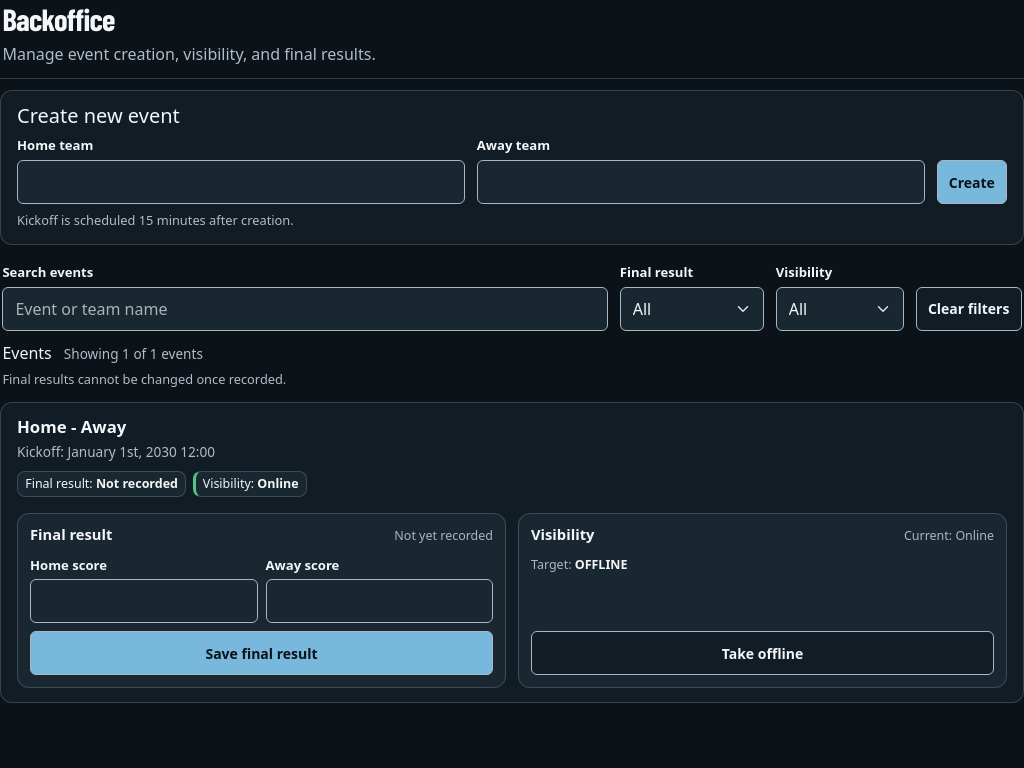
Test case: public Backoffice access › creates an event with trimmed team names
Expected: the heading "Home - Away" is shown, [17,415,126,438]
Type "  Team A " into the field labelled "Home team" at (241, 182), box [17,160,465,204]
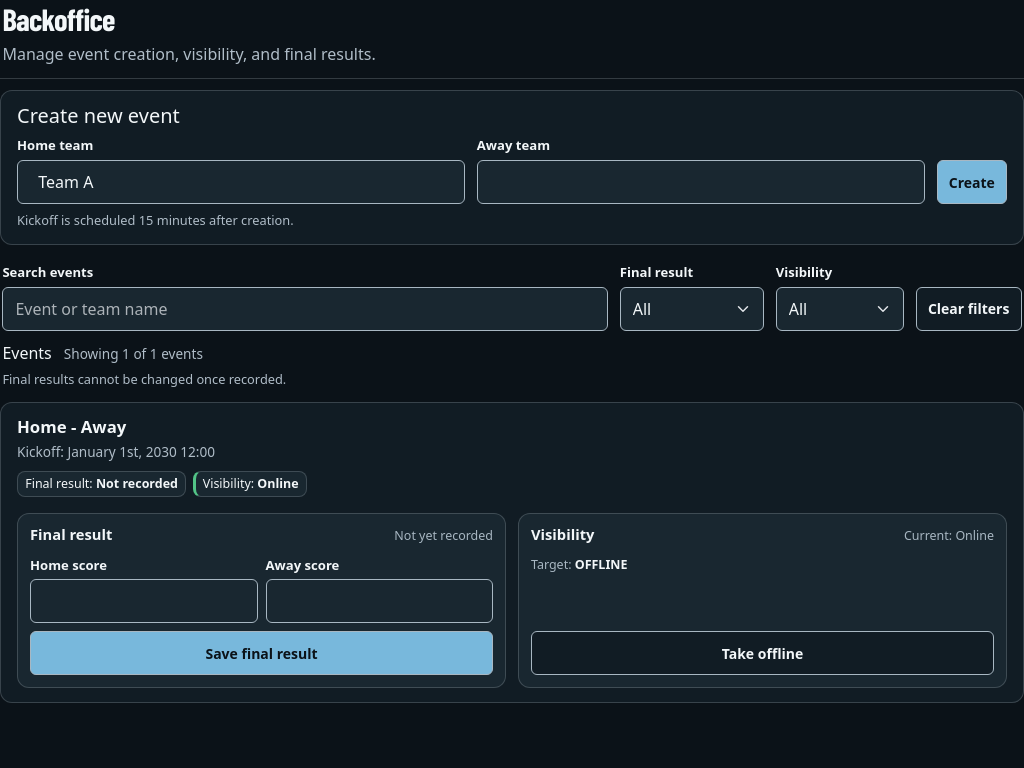
Type " Team B  " into the field labelled "Away team" at (701, 182), box [477,160,925,204]
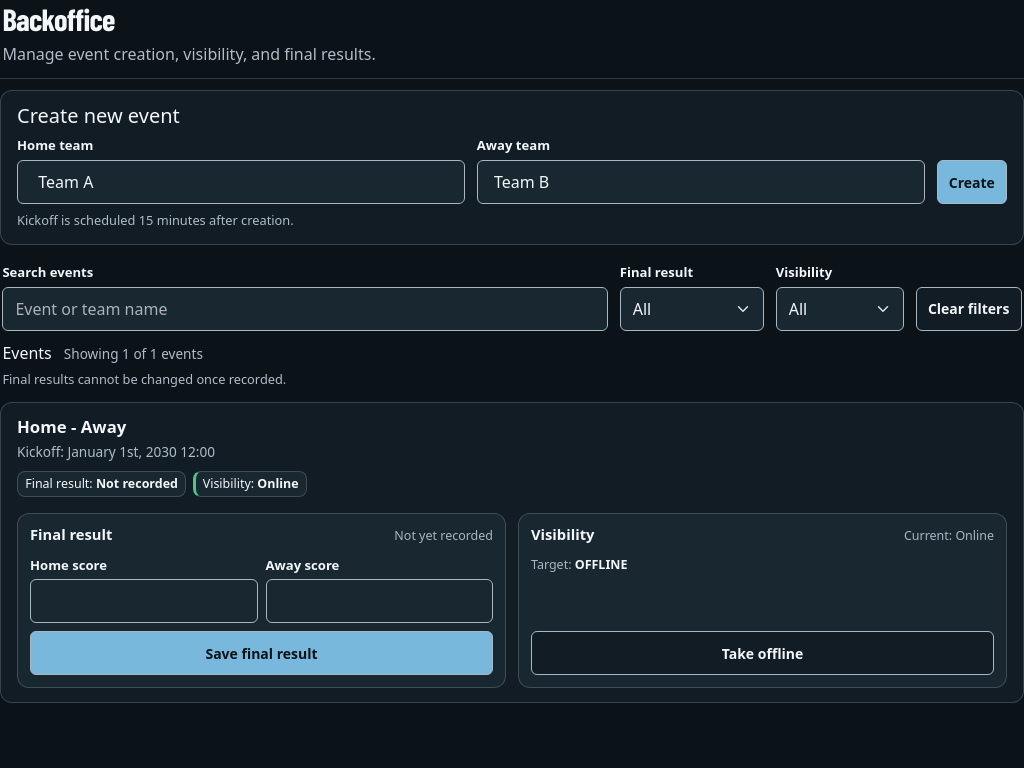
Click the button "Create" at (972, 182), box [936,160,1007,204]
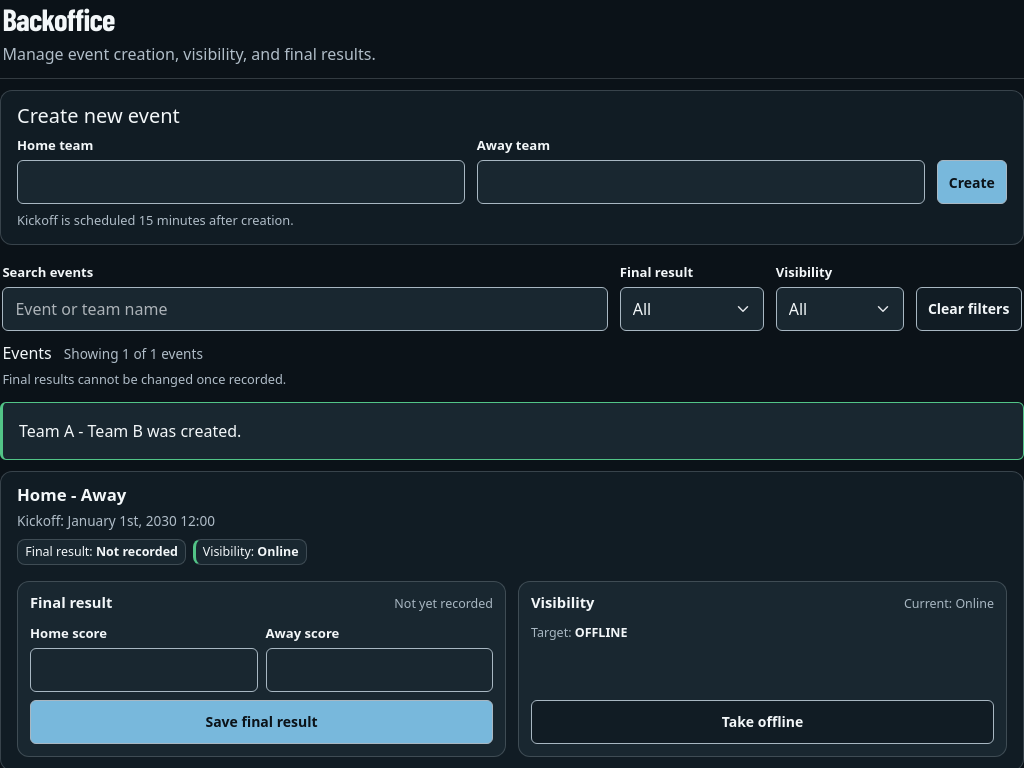
Expected: the text "Kickoff is scheduled 15 minutes after creation." is shown, [17,211,294,229]
Result: the message reads "Team A - Team B was created." at [19,420,241,442]
